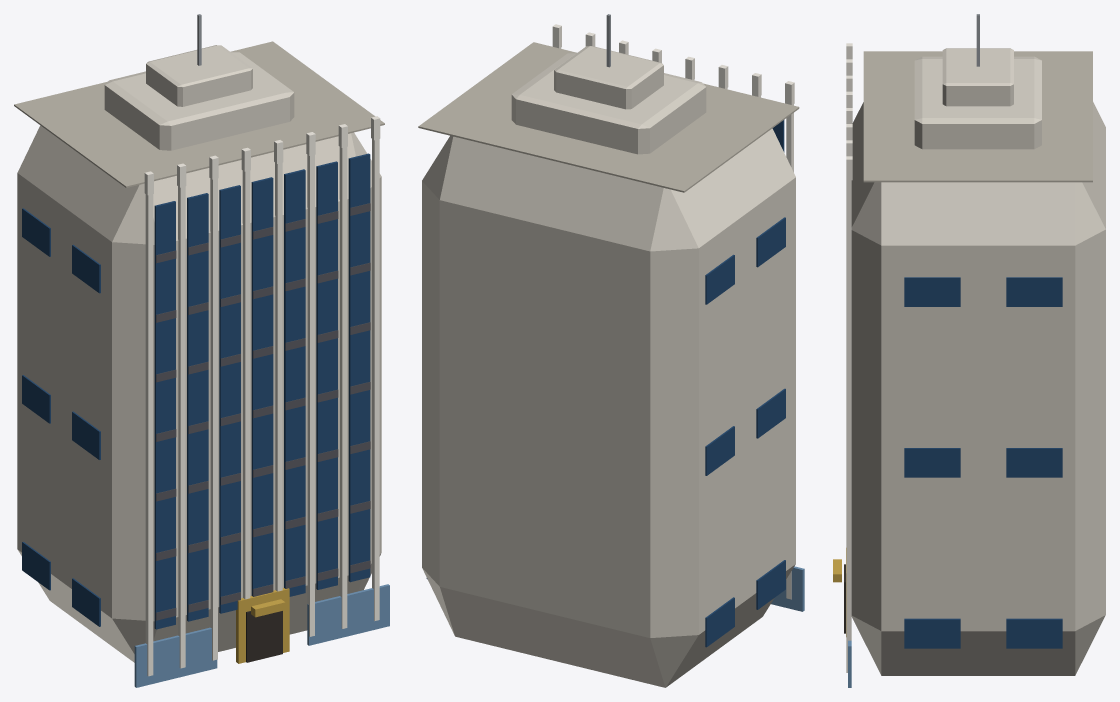
File: office_f8_grid_w18.glb
3 views of the same model, side by side, from view 1: azimuth 30°, elevation 25°; view 2: azimuth 150°, elevation 25°; view 3: azimuth 270°, elevation 25° (orthographic). The views are drawn at different scales.
Visible parts, largest first — view 1: walls, roofslab, crown1, chan.006, chan.003, chan.001, chan, chan.005, chan.002, chan.004, crown2, pier (+17 smaller); view 2: walls, roofslab, crown1, crown2, sb.002, sb.004, sb.010, sb, sb.008, sb.006, gf1; view 3: walls, roofslab, crown1, crown2, pier.007, sb.001, sb.003, sb.005, sb.007, sb.009, sb.011.
Part boxes in pixels (x1,y1,x2,y2): walls: (17, 125, 381, 662); roofslab: (14, 41, 384, 187); crown1: (104, 51, 294, 150); chan.006: (348, 153, 370, 582); chan.003: (251, 177, 273, 595); chan.001: (187, 193, 208, 621); chan: (154, 201, 175, 629); chan.005: (316, 161, 337, 589); chan.002: (219, 185, 240, 613); chan.004: (284, 169, 305, 596); crown2: (146, 45, 252, 106); pier: (145, 194, 153, 676); walls: (422, 128, 795, 687); roofslab: (418, 42, 799, 192); crown1: (511, 52, 706, 154); crown2: (554, 46, 663, 109); sb.002: (705, 597, 734, 647); sb.004: (756, 388, 785, 438); sb.010: (705, 254, 734, 304); sb: (756, 560, 785, 609); sb.008: (756, 217, 785, 267); sb.006: (705, 426, 734, 475); gf1: (771, 566, 804, 611); walls: (851, 102, 1105, 675); roofslab: (863, 51, 1092, 182); crown1: (914, 56, 1041, 149); crown2: (942, 48, 1013, 106); pier.007: (846, 180, 851, 672); sb.001: (904, 618, 960, 648); sb.003: (1006, 618, 1062, 648); sb.005: (904, 448, 960, 477); sb.007: (1006, 448, 1062, 477); sb.009: (904, 277, 960, 306); sb.011: (1006, 277, 1062, 306).
Bounding box in the file's own units: 18.2 × 38 × 15.4.
